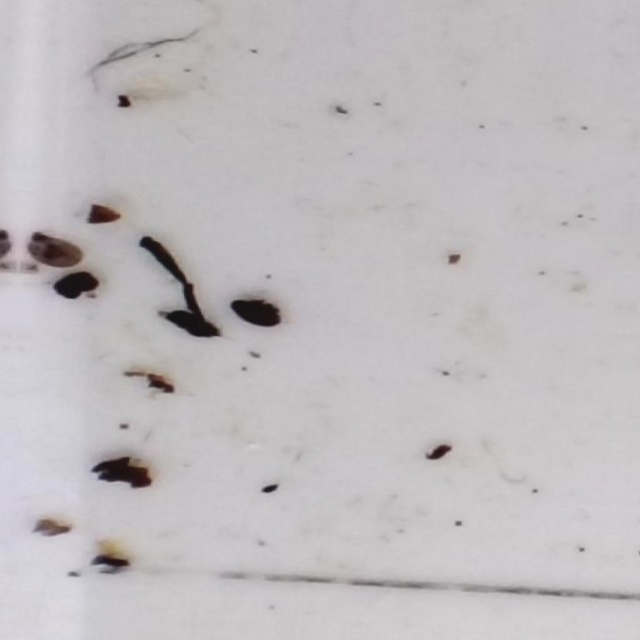varroa: (226, 296, 290, 331), (52, 268, 105, 303), (168, 309, 223, 340)
